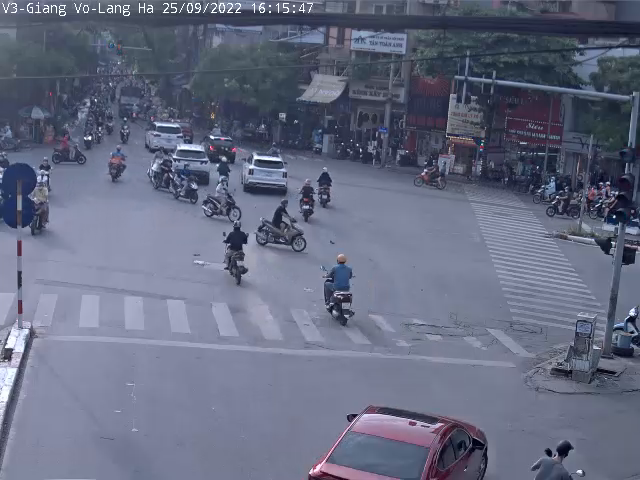người trên xe: (311, 250, 370, 331), (252, 192, 308, 255), (528, 429, 587, 480), (212, 217, 251, 285), (203, 173, 245, 226), (45, 125, 90, 171), (411, 156, 453, 197), (26, 174, 52, 236), (311, 164, 337, 215), (172, 160, 201, 205), (104, 144, 132, 190), (292, 176, 317, 227), (150, 146, 177, 193)
